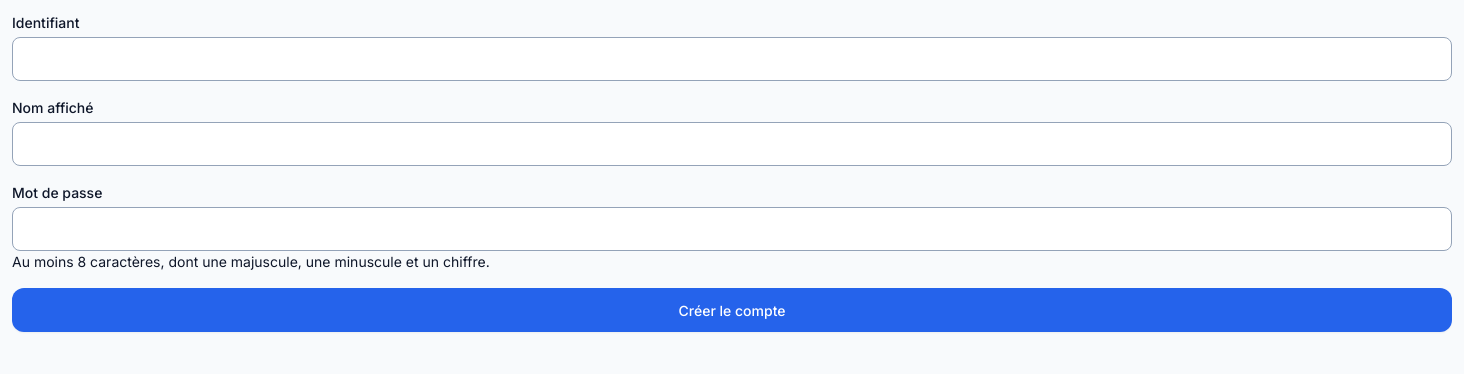
Test case: SignUpForm › shows a per-field display name error under the display name field
The width and height of the screenshot is (1464, 374).
Step 1. Type "nouvel-operateur" into the field labelled "Identifiant" → (732, 59), box [12, 37, 1452, 81]
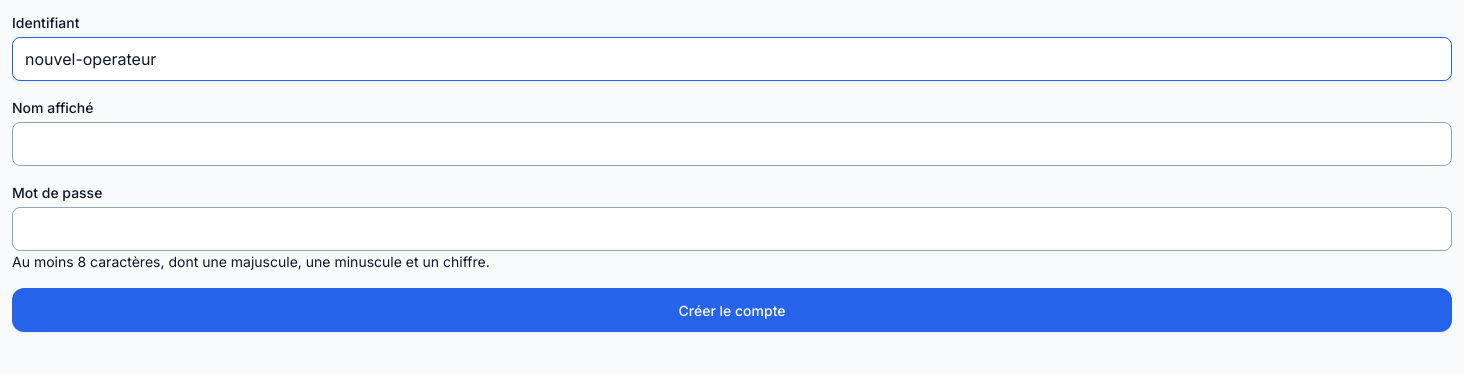
Step 2. Type "Nouvel opérateur" into the field labelled "Nom affiché" → (732, 144), box [12, 122, 1452, 166]
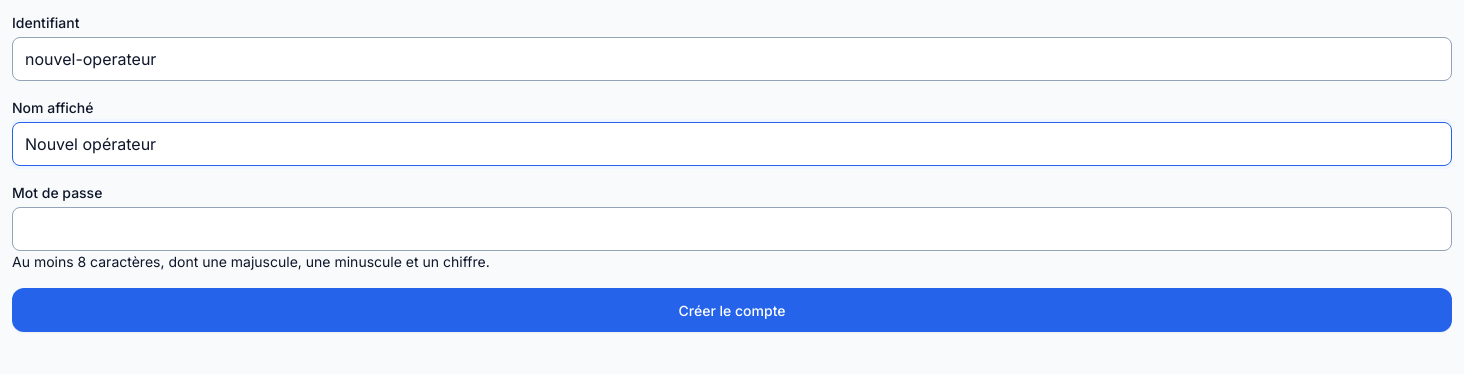
Step 3. Type "Reception2026" into the password field labelled "Mot de passe" → (732, 229), box [12, 207, 1452, 251]
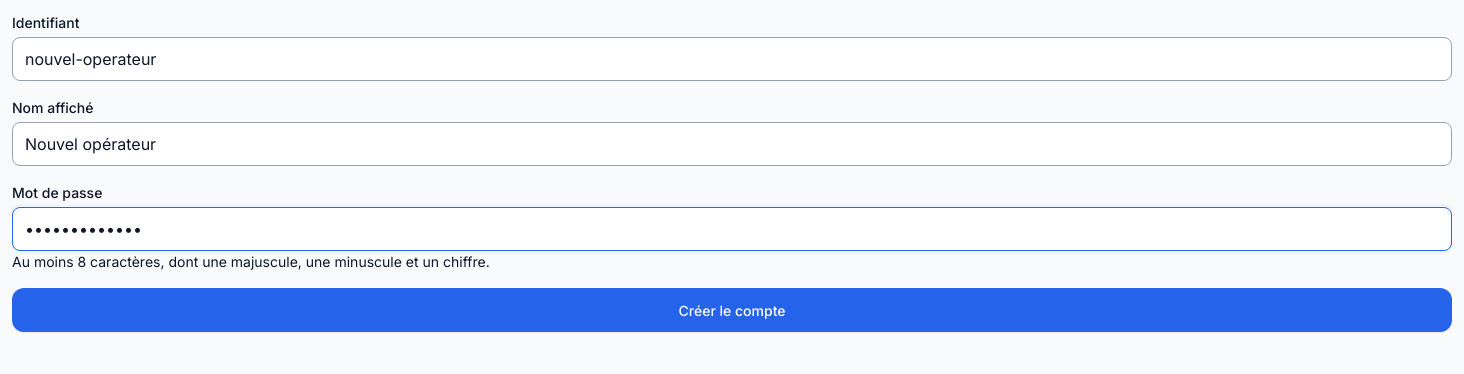
Step 4. Click the button "Créer le compte" → (732, 310), box [12, 288, 1452, 332]
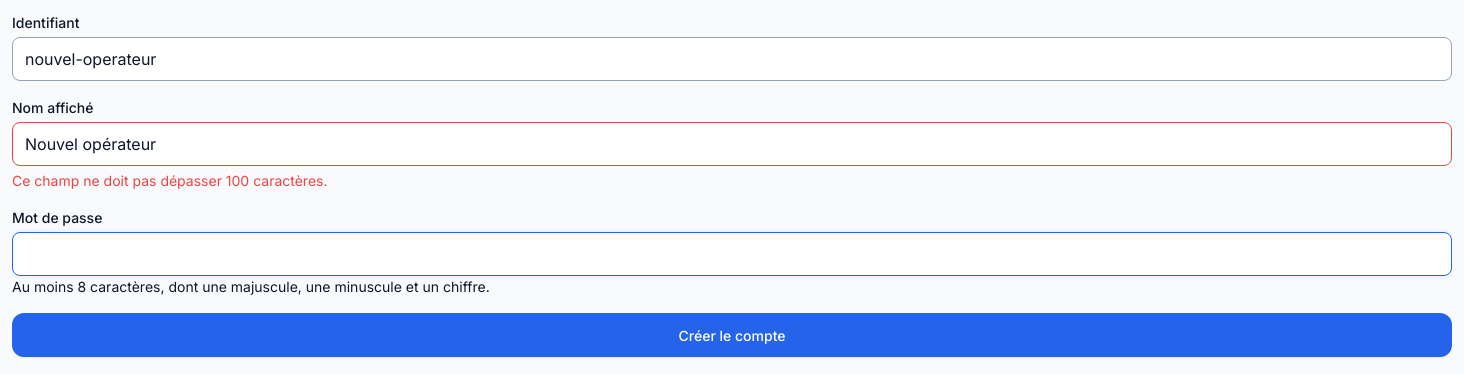
Check: the text "Ce champ ne doit pas dépasser 100 caractères." is shown, box [12, 172, 328, 189]
